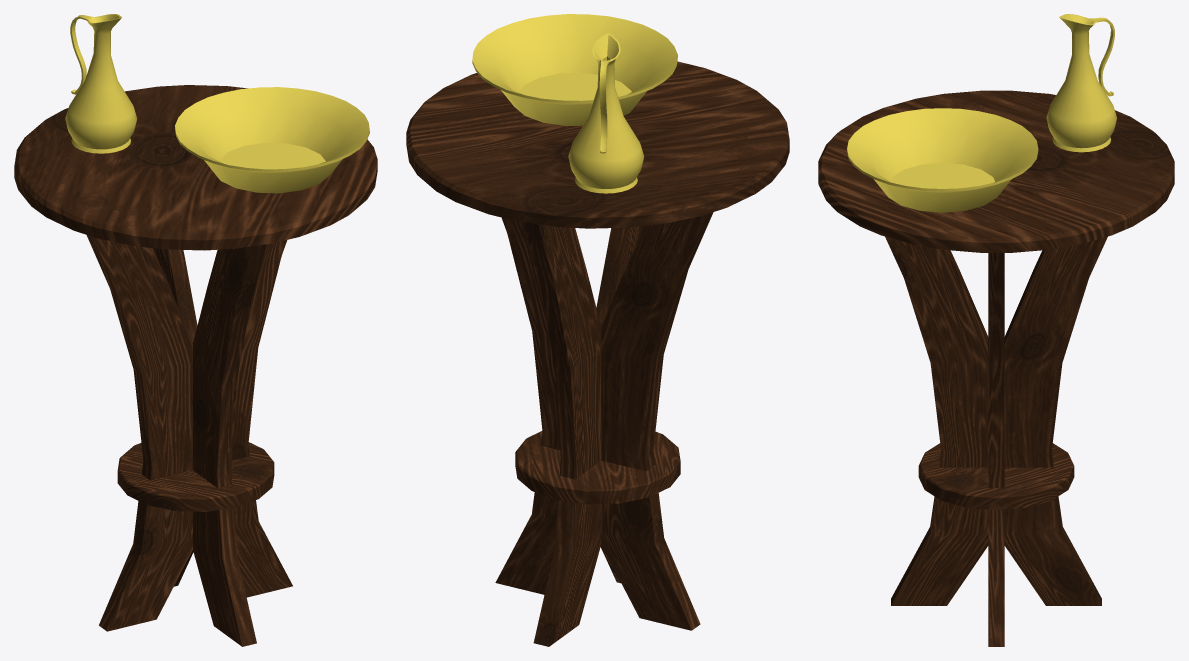
The model's file is Washbasin.fbx.
The picture shows the model from 3 angles, left to right: view 1: azimuth 30°, elevation 25°; view 2: azimuth 150°, elevation 25°; view 3: azimuth 270°, elevation 25°; orthographic projection. The views are drawn at different scales.
Parts seen in each view (by area): view 1: Умывальный столик, Чаша, Кувшин; view 2: Умывальный столик, Чаша, Кувшин; view 3: Умывальный столик, Чаша, Кувшин.
Boxes of the visible parts, x1=… form: Умывальный столик: x1=14, y1=85, x2=377, y2=646; Чаша: x1=175, y1=87, x2=369, y2=193; Кувшин: x1=65, y1=14, x2=137, y2=153; Умывальный столик: x1=406, y1=61, x2=789, y2=646; Чаша: x1=472, y1=14, x2=677, y2=126; Кувшин: x1=568, y1=33, x2=644, y2=193; Умывальный столик: x1=818, y1=90, x2=1174, y2=646; Чаша: x1=847, y1=108, x2=1038, y2=212; Кувшин: x1=1046, y1=14, x2=1116, y2=152.
Size of the model in its own units: 59.03 by 59.03 by 103.
